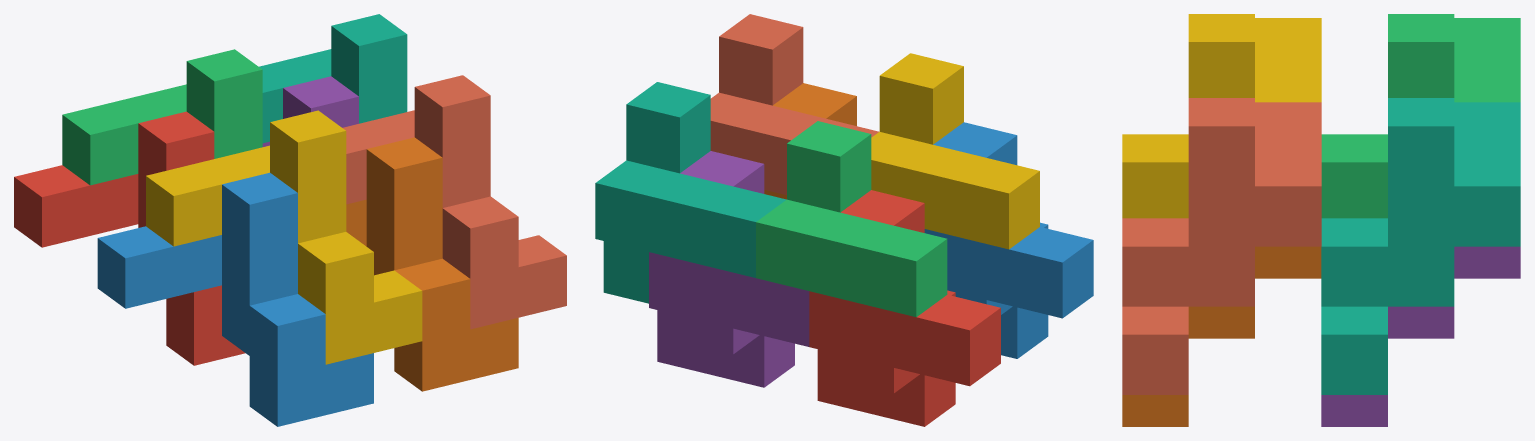
The model's file is tiling.obj.
3 views of the same model, side by side, from view 1: azimuth 30°, elevation 25°; view 2: azimuth 150°, elevation 25°; view 3: azimuth 270°, elevation 25° (orthographic). The views are drawn at different scales.
Visible parts, largest first — view 1: copy_1_domain_2, copy_1_domain_4, copy_1_domain_8, copy_1_domain_6, copy_1_domain_1, copy_1_domain_3, copy_1_domain_7, copy_1_domain_5; view 2: copy_1_domain_7, copy_1_domain_3, copy_1_domain_1, copy_1_domain_4, copy_1_domain_5, copy_1_domain_2, copy_1_domain_8, copy_1_domain_6; view 3: copy_1_domain_8, copy_1_domain_7, copy_1_domain_4, copy_1_domain_3, copy_1_domain_5, copy_1_domain_6.
Boxes of the visible parts, x1,y1,x2,y2 form: copy_1_domain_2: (97, 172, 373, 426); copy_1_domain_4: (146, 110, 422, 364); copy_1_domain_8: (342, 75, 566, 329); copy_1_domain_6: (346, 137, 518, 391); copy_1_domain_1: (14, 111, 245, 365); copy_1_domain_3: (62, 49, 262, 185); copy_1_domain_7: (259, 14, 407, 143); copy_1_domain_5: (262, 76, 358, 146); copy_1_domain_7: (595, 82, 786, 303); copy_1_domain_3: (756, 121, 947, 317); copy_1_domain_1: (809, 190, 1000, 426); copy_1_domain_4: (871, 53, 1039, 249); copy_1_domain_5: (649, 151, 809, 387); copy_1_domain_2: (924, 122, 1093, 358); copy_1_domain_8: (710, 14, 878, 195); copy_1_domain_6: (764, 83, 856, 199); copy_1_domain_8: (1122, 98, 1321, 394); copy_1_domain_7: (1321, 98, 1520, 394); copy_1_domain_4: (1122, 14, 1321, 218); copy_1_domain_3: (1321, 14, 1520, 218); copy_1_domain_5: (1321, 246, 1520, 426); copy_1_domain_6: (1122, 246, 1321, 426).
Size of the model in its own units: 8 by 5 by 6.
